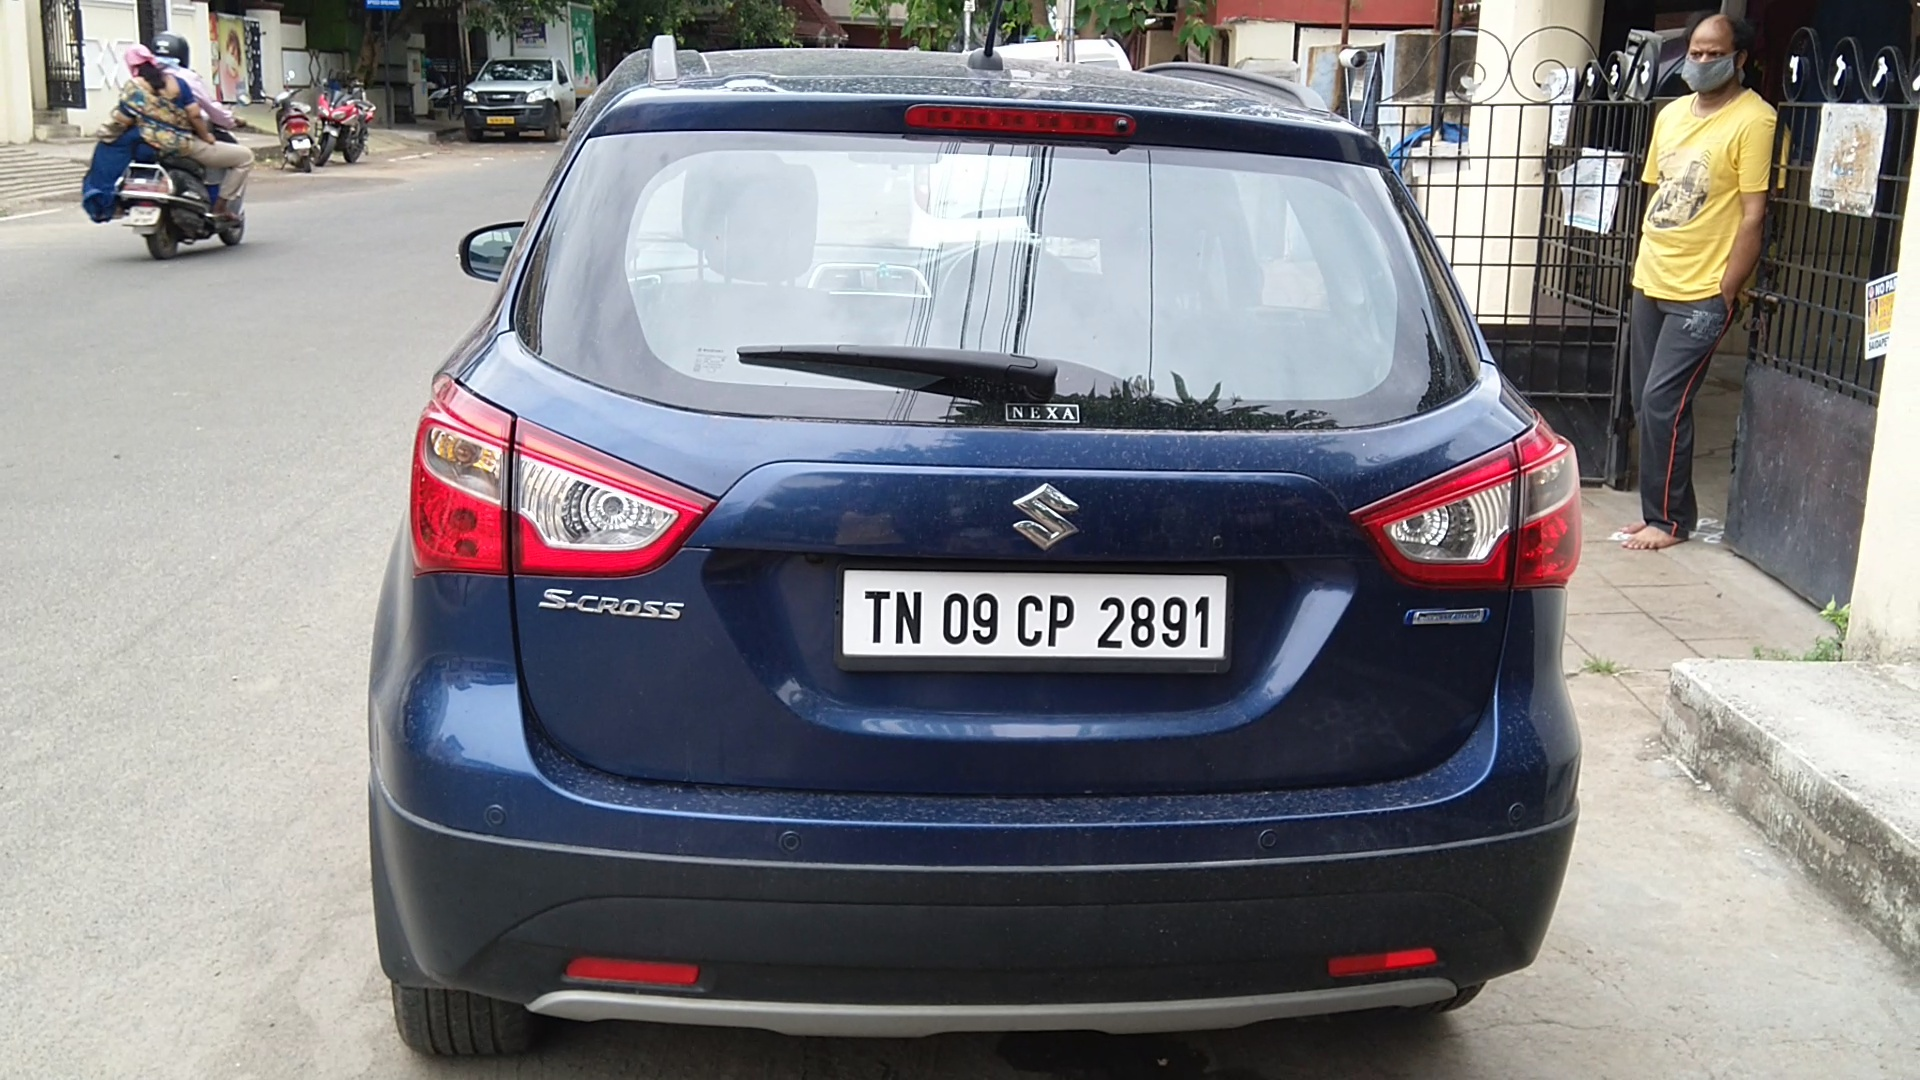rear_camera: (1102, 111, 1141, 140)
shvs: (1400, 589, 1503, 649)
